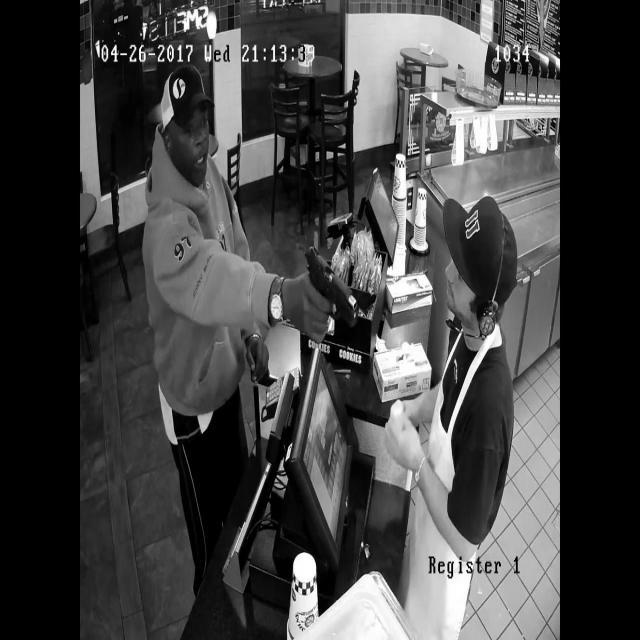Gun: (280, 238, 372, 342)
